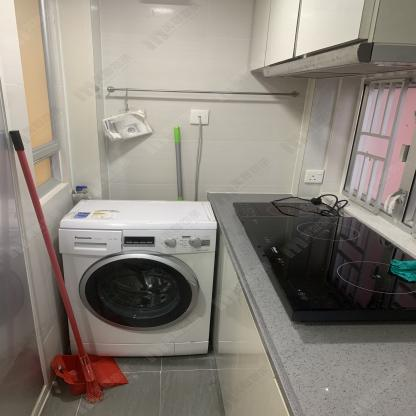Cupboard: (250, 2, 416, 71)
Exhaust Hood: (263, 40, 416, 80)
Stove: (230, 201, 416, 326)
Washing Machine: (56, 198, 218, 356)
